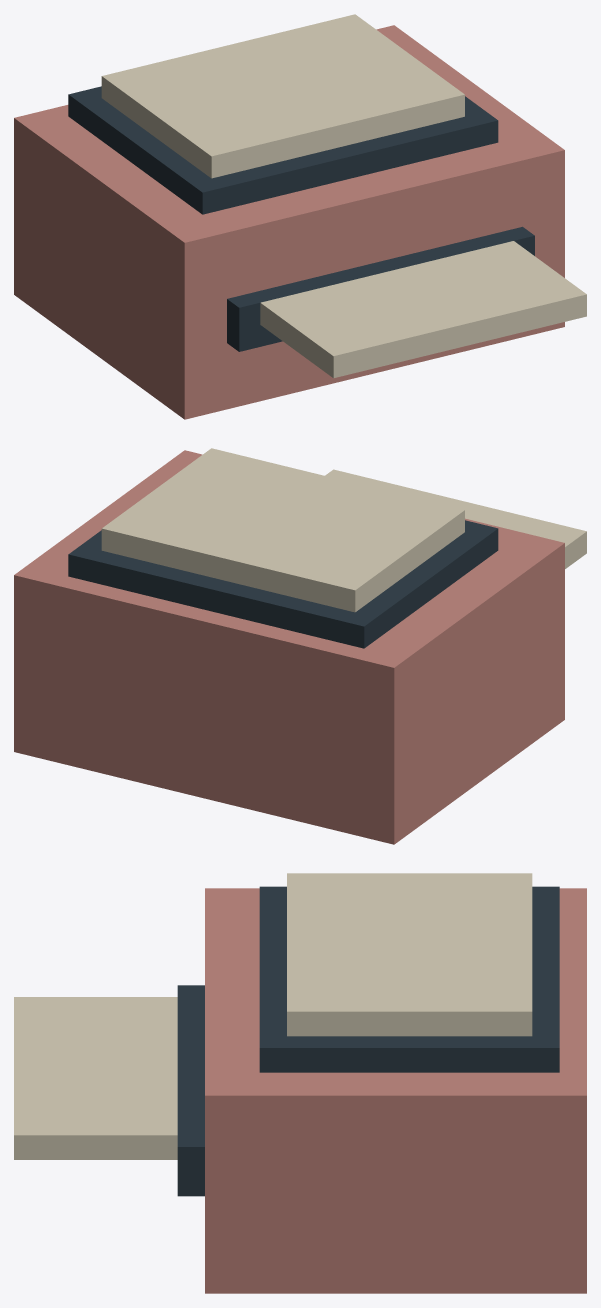
File: commerce-08.glb
3 renders of one model, top to bottom at view 1: azimuth 30°, elevation 25°; view 2: azimuth 150°, elevation 25°; view 3: azimuth 270°, elevation 25°, orthographic. The views are drawn at different scales.
Visible parts, largest first — view 1: Receipt printer; view 2: Receipt printer; view 3: Receipt printer.
Boxes of the visible parts, bbox=[...] form: Receipt printer: bbox=[14, 14, 586, 419]; Receipt printer: bbox=[14, 448, 586, 844]; Receipt printer: bbox=[14, 873, 586, 1293].
Bounding box in the file's own units: 1.44 × 0.8 × 1.68.
